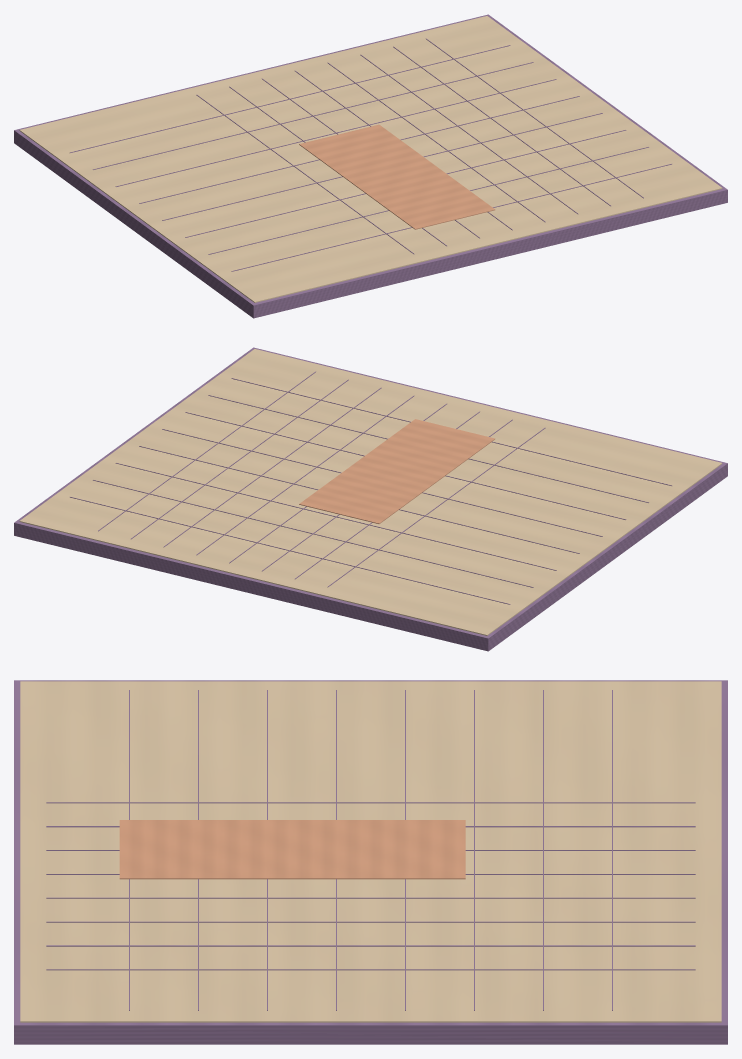
The model's file is atlas100-s083-a07.lod1.glb.
3 renders of one model, top to bottom at view 1: azimuth 30°, elevation 25°; view 2: azimuth 150°, elevation 25°; view 3: azimuth 270°, elevation 25°, orthographic. The views are drawn at different scales.
Parts seen in each view (by area): view 1: atlas100-s083-a07:part-001, atlas100-s083-a07:part-000, atlas100-s083-a07:part-021, atlas100-s083-a07:part-013, atlas100-s083-a07:part-014, atlas100-s083-a07:part-015, atlas100-s083-a07:part-020, atlas100-s083-a07:part-018, atlas100-s083-a07:part-019, atlas100-s083-a07:part-017, atlas100-s083-a07:part-016; view 2: atlas100-s083-a07:part-001, atlas100-s083-a07:part-000, atlas100-s083-a07:part-021, atlas100-s083-a07:part-013, atlas100-s083-a07:part-014, atlas100-s083-a07:part-015, atlas100-s083-a07:part-019, atlas100-s083-a07:part-020, atlas100-s083-a07:part-016, atlas100-s083-a07:part-018, atlas100-s083-a07:part-017; view 3: atlas100-s083-a07:part-001, atlas100-s083-a07:part-000, atlas100-s083-a07:part-021, atlas100-s083-a07:part-010, atlas100-s083-a07:part-011, atlas100-s083-a07:part-012, atlas100-s083-a07:part-005, atlas100-s083-a07:part-009, atlas100-s083-a07:part-006.
Boxes of the visible parts, x1=… form: atlas100-s083-a07:part-001: x1=19, y1=16, x2=722, y2=302; atlas100-s083-a07:part-000: x1=14, y1=14, x2=727, y2=318; atlas100-s083-a07:part-021: x1=299, y1=124, x2=495, y2=229; atlas100-s083-a07:part-013: x1=70, y1=45, x2=510, y2=152; atlas100-s083-a07:part-014: x1=93, y1=62, x2=533, y2=169; atlas100-s083-a07:part-015: x1=115, y1=79, x2=556, y2=186; atlas100-s083-a07:part-020: x1=231, y1=164, x2=671, y2=271; atlas100-s083-a07:part-018: x1=185, y1=130, x2=626, y2=237; atlas100-s083-a07:part-019: x1=208, y1=147, x2=648, y2=254; atlas100-s083-a07:part-017: x1=162, y1=113, x2=602, y2=220; atlas100-s083-a07:part-016: x1=139, y1=96, x2=579, y2=203; atlas100-s083-a07:part-001: x1=19, y1=349, x2=722, y2=635; atlas100-s083-a07:part-000: x1=14, y1=347, x2=727, y2=651; atlas100-s083-a07:part-021: x1=299, y1=419, x2=494, y2=523; atlas100-s083-a07:part-013: x1=70, y1=497, x2=510, y2=604; atlas100-s083-a07:part-014: x1=93, y1=480, x2=533, y2=587; atlas100-s083-a07:part-015: x1=115, y1=463, x2=556, y2=570; atlas100-s083-a07:part-019: x1=208, y1=395, x2=648, y2=502; atlas100-s083-a07:part-020: x1=231, y1=378, x2=671, y2=485; atlas100-s083-a07:part-016: x1=139, y1=446, x2=579, y2=553; atlas100-s083-a07:part-018: x1=185, y1=412, x2=626, y2=519; atlas100-s083-a07:part-017: x1=162, y1=429, x2=602, y2=536; atlas100-s083-a07:part-001: x1=20, y1=681, x2=721, y2=1022; atlas100-s083-a07:part-000: x1=14, y1=680, x2=727, y2=1044; atlas100-s083-a07:part-021: x1=119, y1=820, x2=465, y2=879; atlas100-s083-a07:part-010: x1=46, y1=921, x2=695, y2=922; atlas100-s083-a07:part-011: x1=46, y1=945, x2=695, y2=946; atlas100-s083-a07:part-012: x1=46, y1=969, x2=695, y2=970; atlas100-s083-a07:part-005: x1=46, y1=802, x2=695, y2=803; atlas100-s083-a07:part-009: x1=46, y1=897, x2=695, y2=898; atlas100-s083-a07:part-006: x1=46, y1=826, x2=695, y2=827.
Bounding box in the file's own units: 13.02 × 0.404 × 11.39.
Materials: 3 (3 with a texture image).
